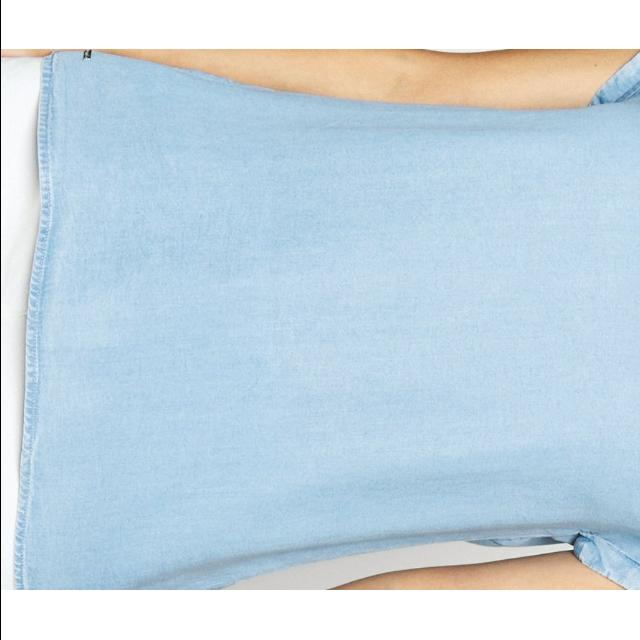denim: (24, 49, 640, 590)
